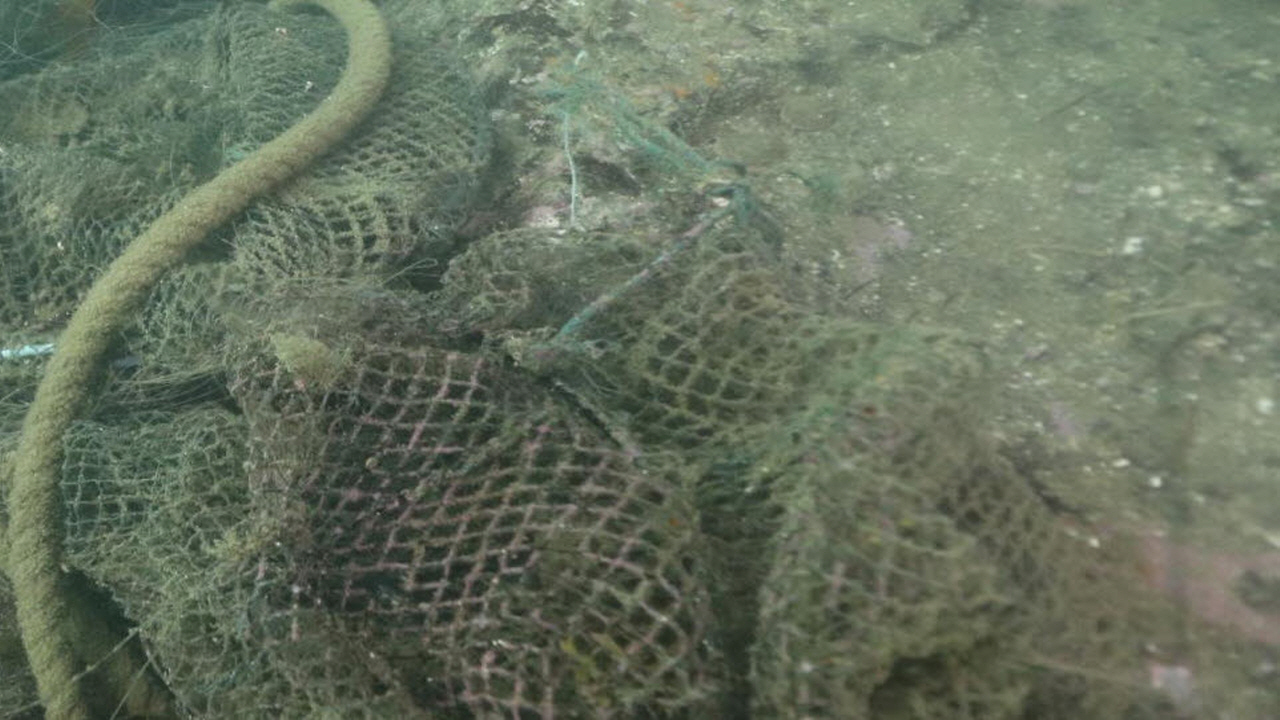fish net: (0, 0, 1139, 720)
rope: (0, 0, 391, 720)
